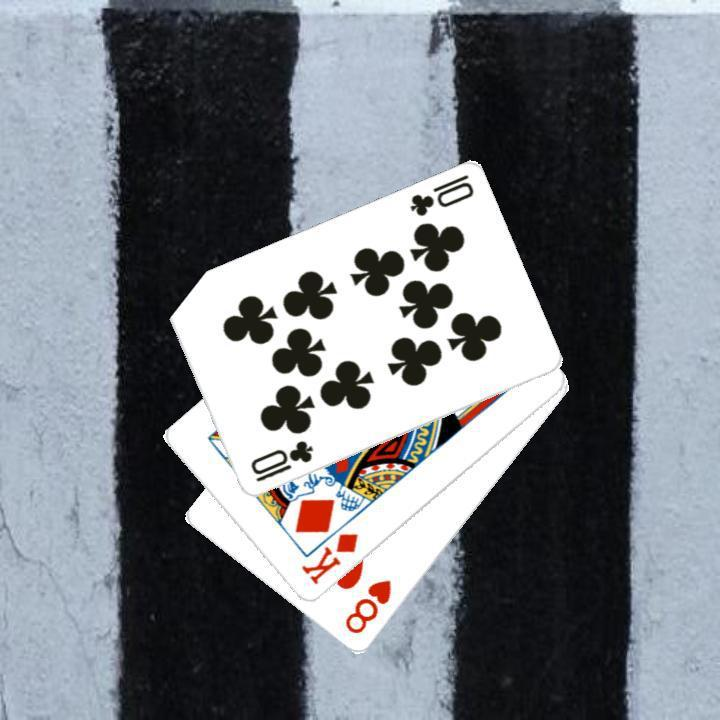10: (245, 436, 315, 485), (405, 171, 476, 219)
8: (340, 576, 394, 637)
K: (296, 529, 361, 587)
